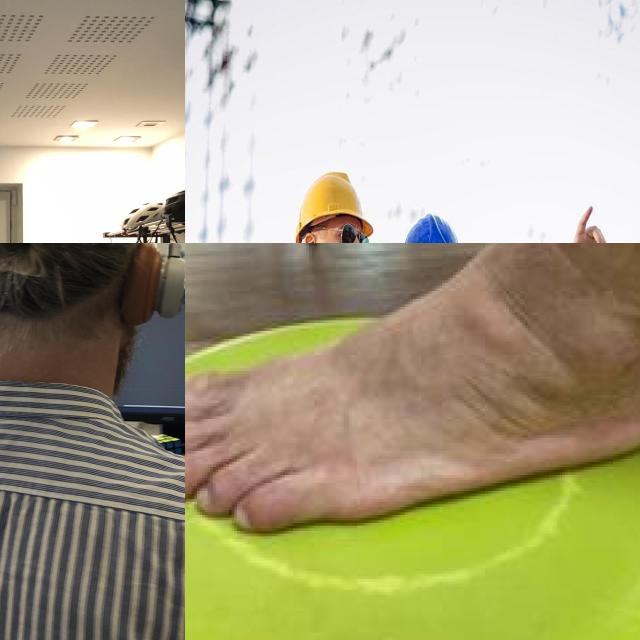Barefoots: (185, 274, 640, 562)
Ear-protection: (0, 243, 185, 374)
No_Ear-Protection: (301, 230, 320, 243)
face_nomask: (303, 212, 367, 243)
glasses: (336, 219, 371, 243)
hand_noglove: (556, 201, 611, 243)
head_helmet: (302, 171, 376, 235), (396, 212, 472, 243)
person: (0, 37, 60, 243)
